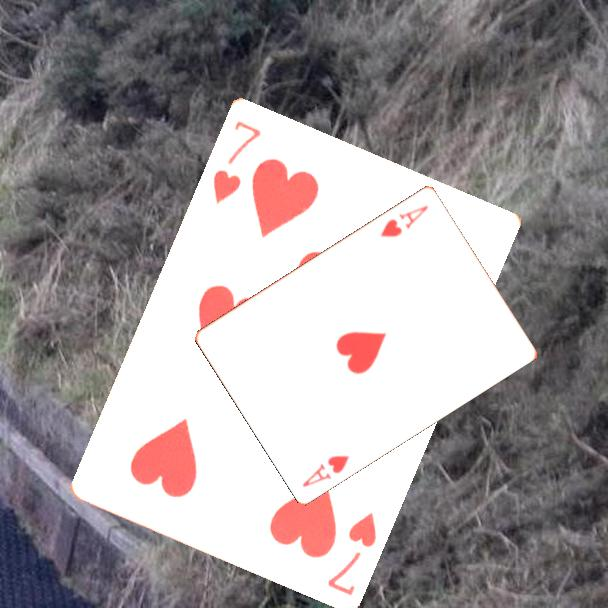h01: (376, 201, 431, 240), (299, 451, 353, 490)
h07: (323, 508, 380, 598), (209, 116, 264, 206)
